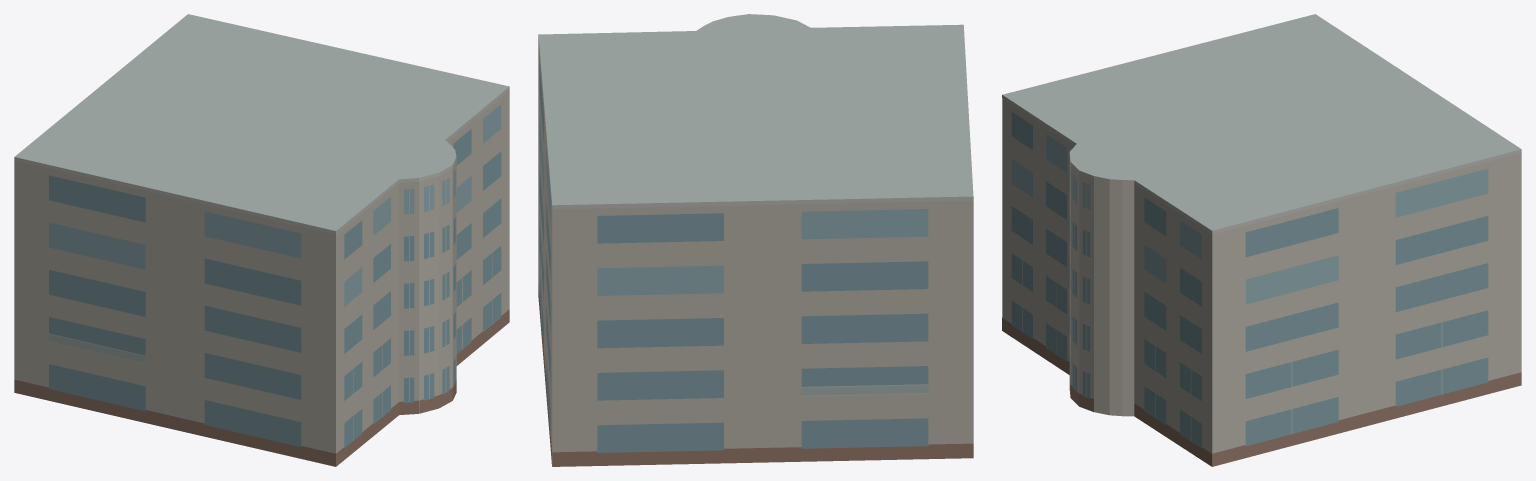
The model's file is survey-upis-32863451.glb.
3 renders of one model, left to right at view 1: azimuth 30°, elevation 25°; view 2: azimuth 150°, elevation 25°; view 3: azimuth 270°, elevation 25°, orthographic. The views are drawn at different scales.
Visible parts, largest first — view 1: survey-upis-32863451.tmp; view 2: survey-upis-32863451.tmp; view 3: survey-upis-32863451.tmp.
Part boxes in pixels (x1=…): survey-upis-32863451.tmp: x1=14, y1=14, x2=509, y2=466; survey-upis-32863451.tmp: x1=538, y1=14, x2=973, y2=466; survey-upis-32863451.tmp: x1=1002, y1=14, x2=1521, y2=466.
Bounding box in the file's own units: 31.02 × 15.75 × 31.41.
